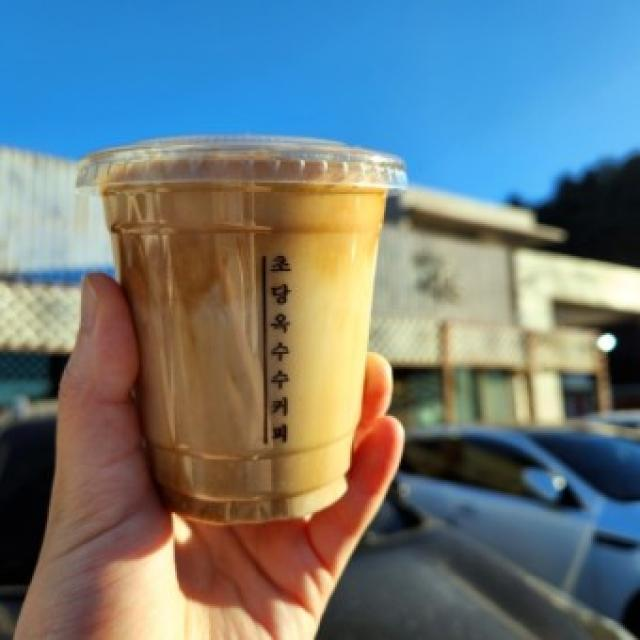cup: (51, 128, 417, 530)
